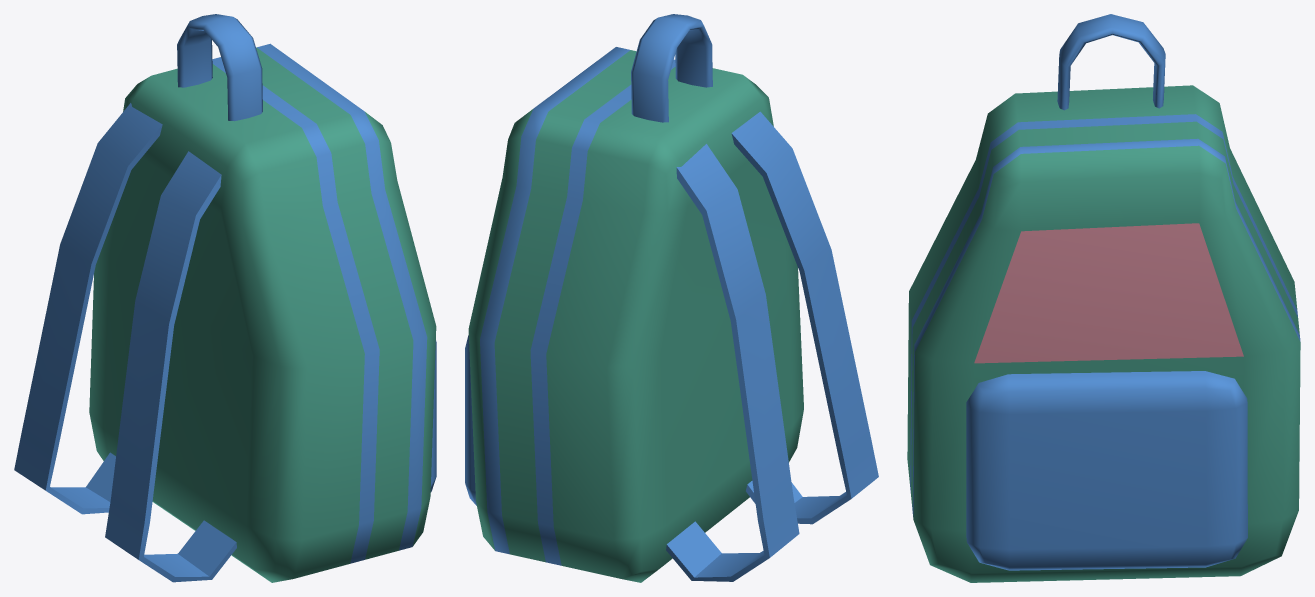
The model's file is Childroom2_backpack.fbx.
3 views of the same model, side by side, from view 1: azimuth 30°, elevation 25°; view 2: azimuth 150°, elevation 25°; view 3: azimuth 270°, elevation 25° (orthographic).
Parts seen in each view (by area): view 1: Childroom2_backpack; view 2: Childroom2_backpack; view 3: Childroom2_backpack.
Boxes of the visible parts, x1,y1,x2,y2 form: Childroom2_backpack: (14, 14, 436, 582); Childroom2_backpack: (465, 14, 878, 582); Childroom2_backpack: (907, 14, 1300, 582).
Size of the model in its own units: 45.15 by 71.23 by 49.44.
